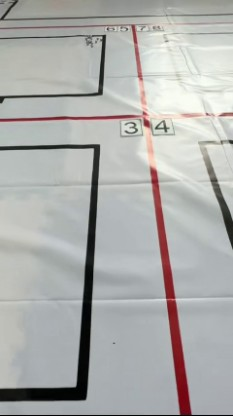ironball: (88, 34, 101, 42), (82, 39, 93, 47), (94, 37, 103, 44), (84, 34, 88, 40)
